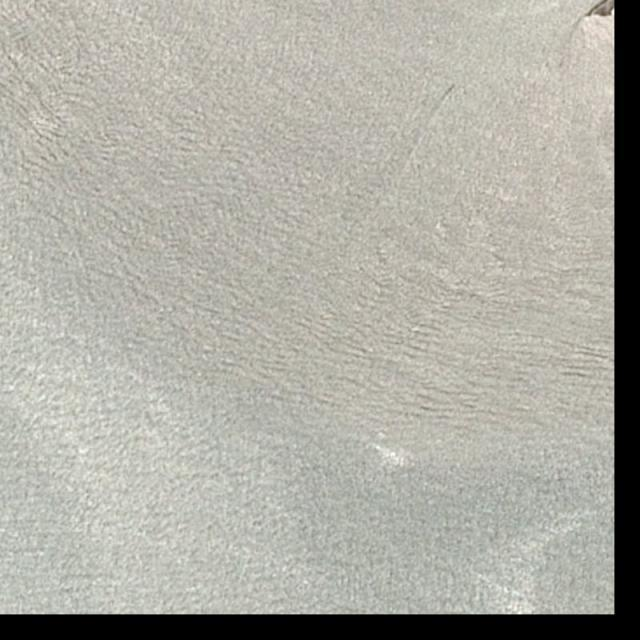ship: (450, 83, 459, 93)
